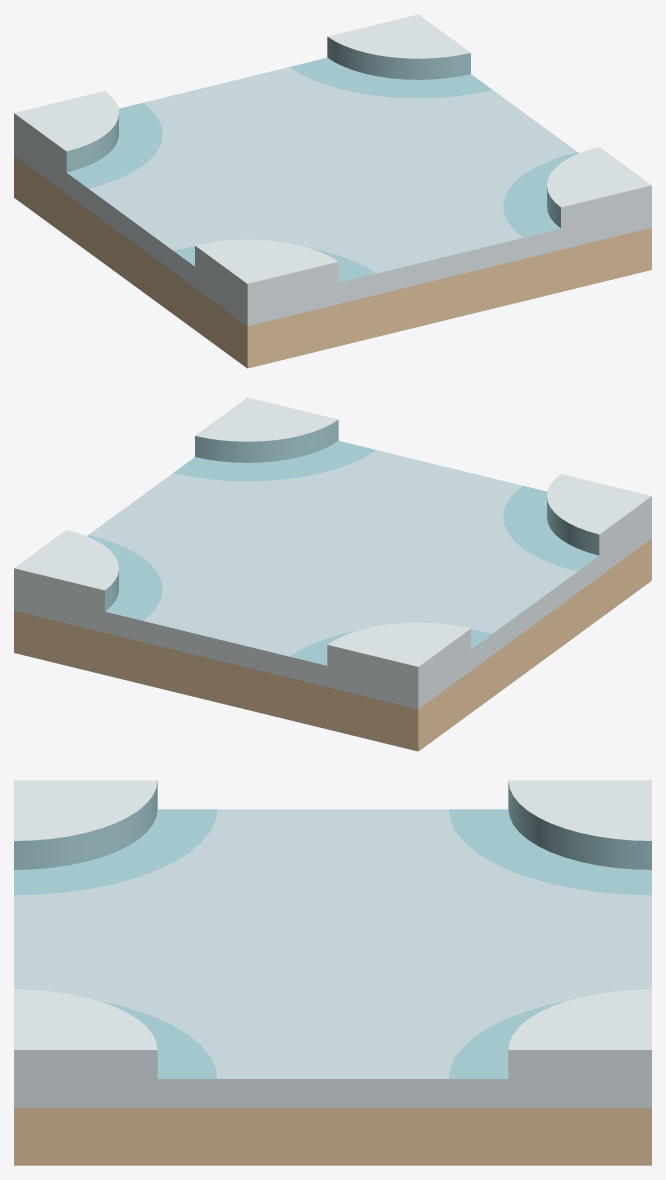
File: snow_tile_crossing.glb
3 renders of one model, top to bottom at view 1: azimuth 30°, elevation 25°; view 2: azimuth 150°, elevation 25°; view 3: azimuth 270°, elevation 25°, orthographic. The views are drawn at different scales.
Parts seen in each view (by area): view 1: snow_tile_crossing; view 2: snow_tile_crossing; view 3: snow_tile_crossing.
Part boxes in pixels (x1,y1,x2,y2): snow_tile_crossing: [14, 14, 651, 368]; snow_tile_crossing: [14, 397, 651, 751]; snow_tile_crossing: [14, 780, 651, 1165].
Size of the model in its own units: 1 by 0.2 by 1.
